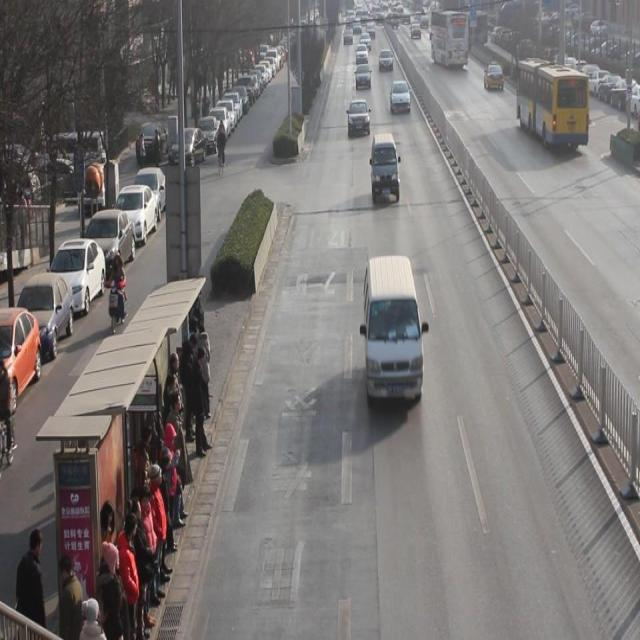car: (348, 99, 372, 138), (390, 79, 411, 115), (484, 63, 505, 91), (355, 62, 372, 91)
truck: (363, 255, 425, 409), (371, 132, 400, 205)
van: (515, 55, 587, 149)
